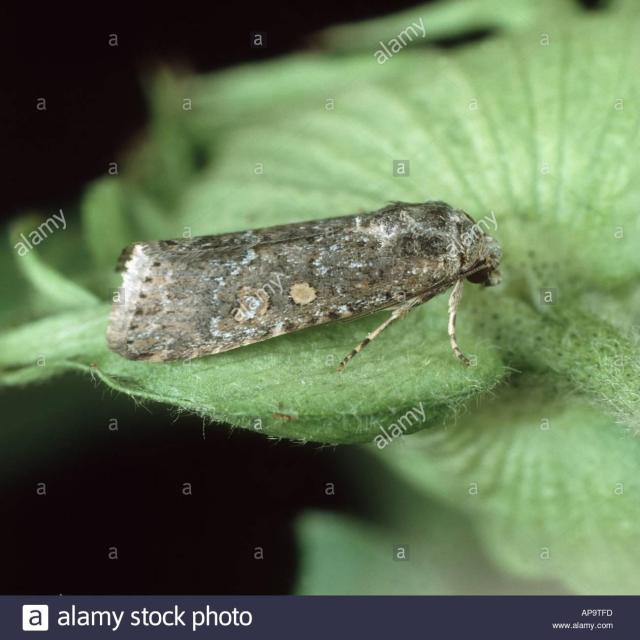army worm: (107, 194, 512, 349)
